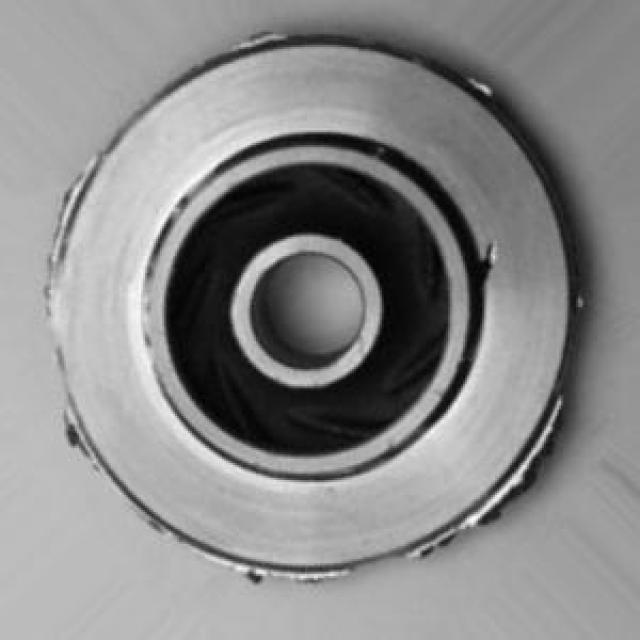Defect: (490, 405, 556, 528), (468, 70, 499, 106)
